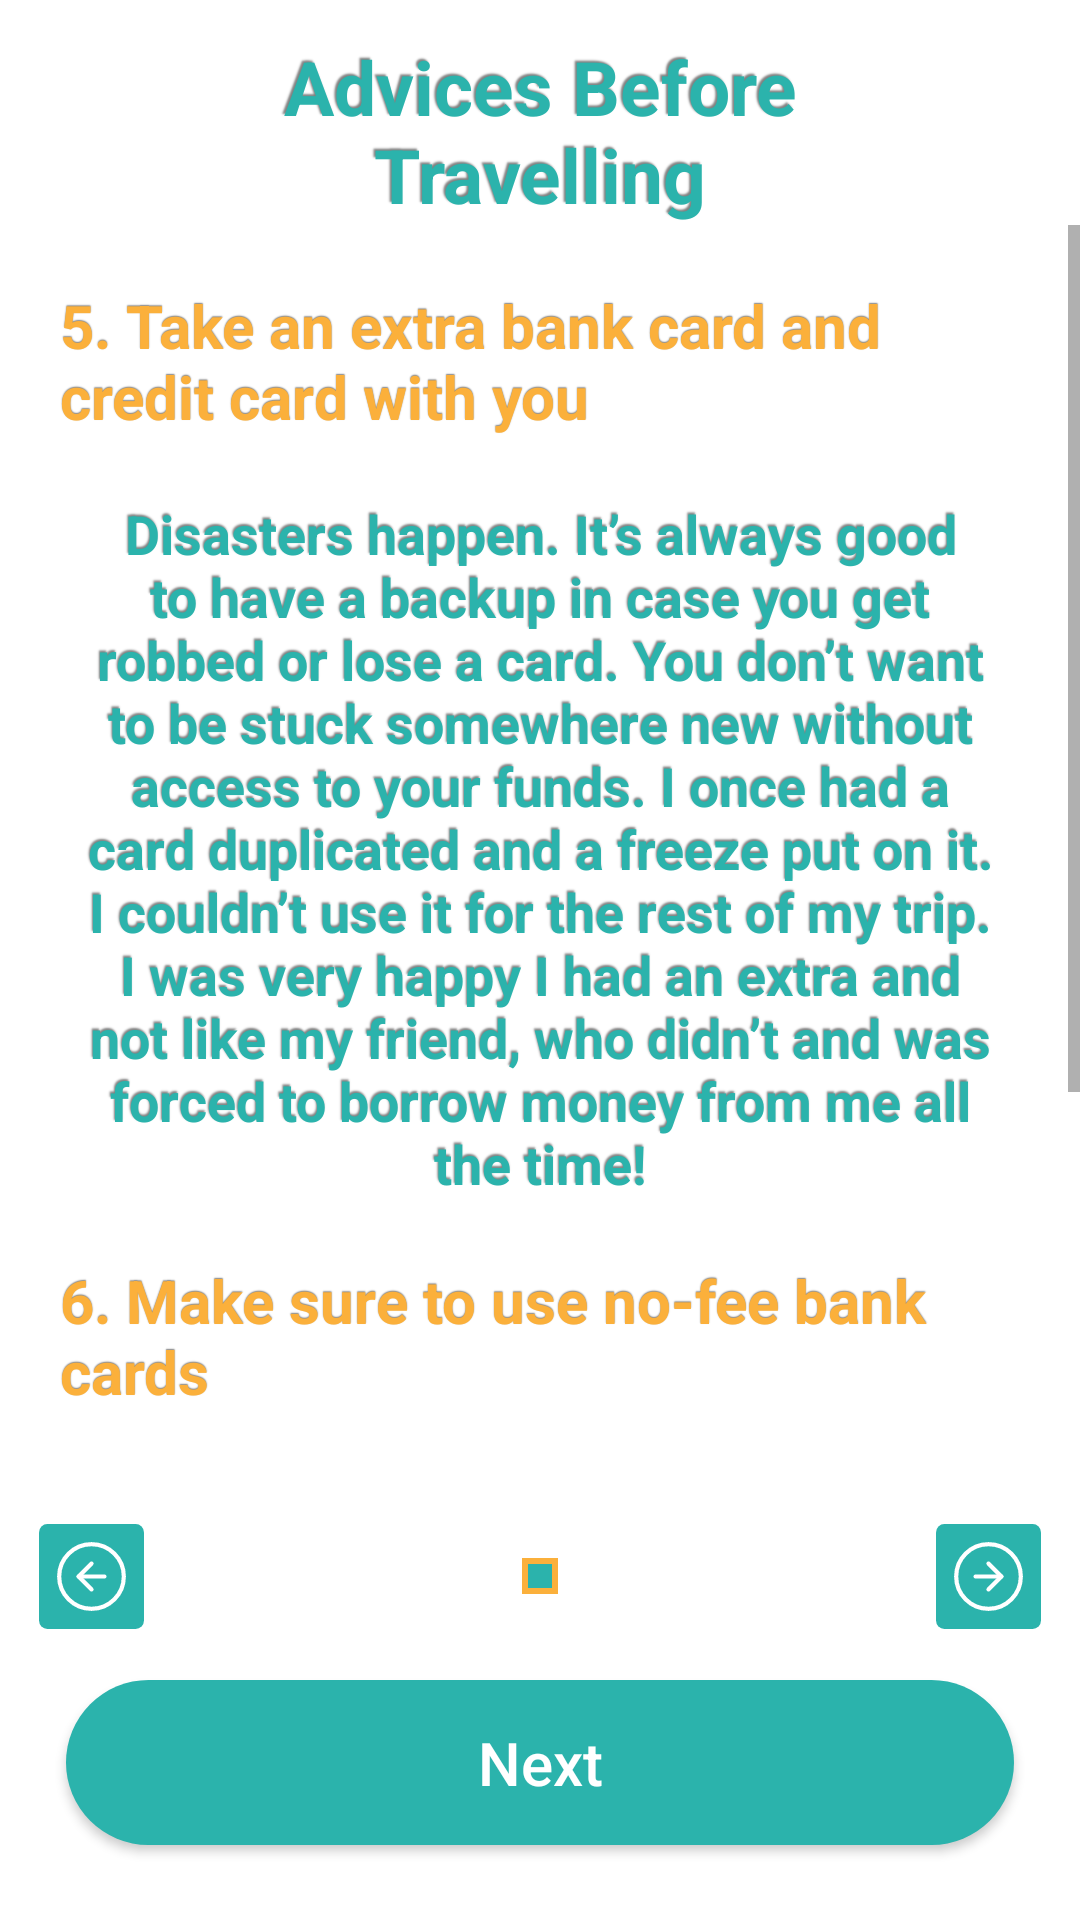

Screen size 1080px x 1920px. Icon name, then its center in pixels as point (x, y):
prev: point (91, 1576)
